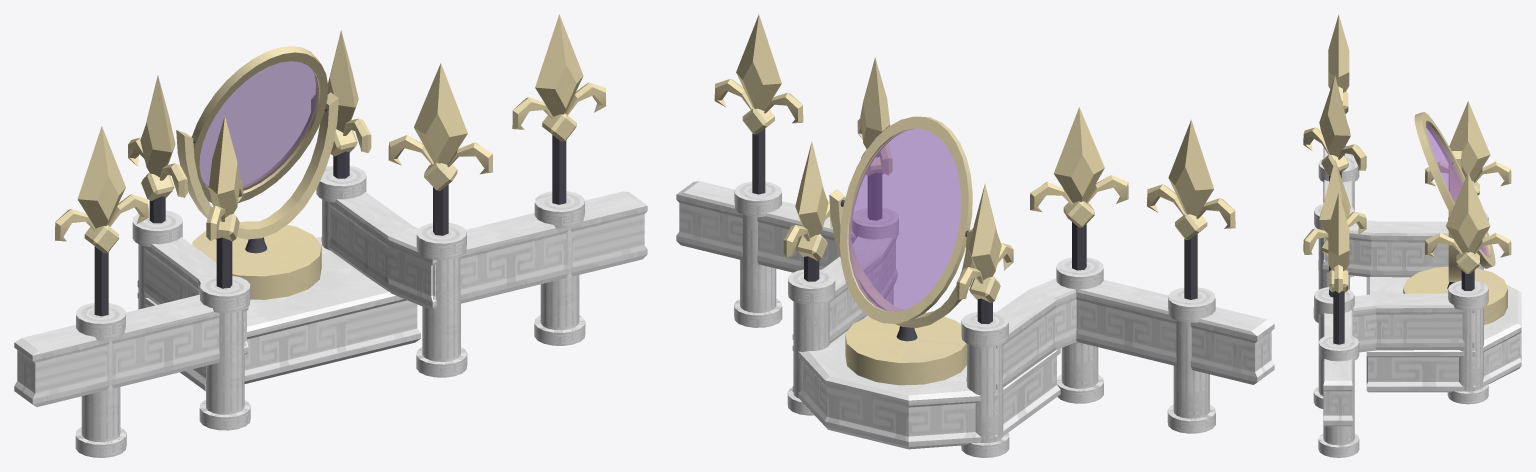
Rendered from GreekBalcony.fbx.
3 renders of one model, left to right at view 1: azimuth 30°, elevation 25°; view 2: azimuth 150°, elevation 25°; view 3: azimuth 270°, elevation 25°, orthographic. The views are drawn at different scales.
Parts seen in each view (by area): view 1: Circle.023; view 2: Circle.023; view 3: Circle.023.
Part boxes in pixels (x1,y1,x2,y2): Circle.023: (14,14,647,457); Circle.023: (676,14,1274,457); Circle.023: (1303,14,1521,457).
Size of the model in its own units: 4047 by 2022 by 1557.
3 materials, 2 textured.
